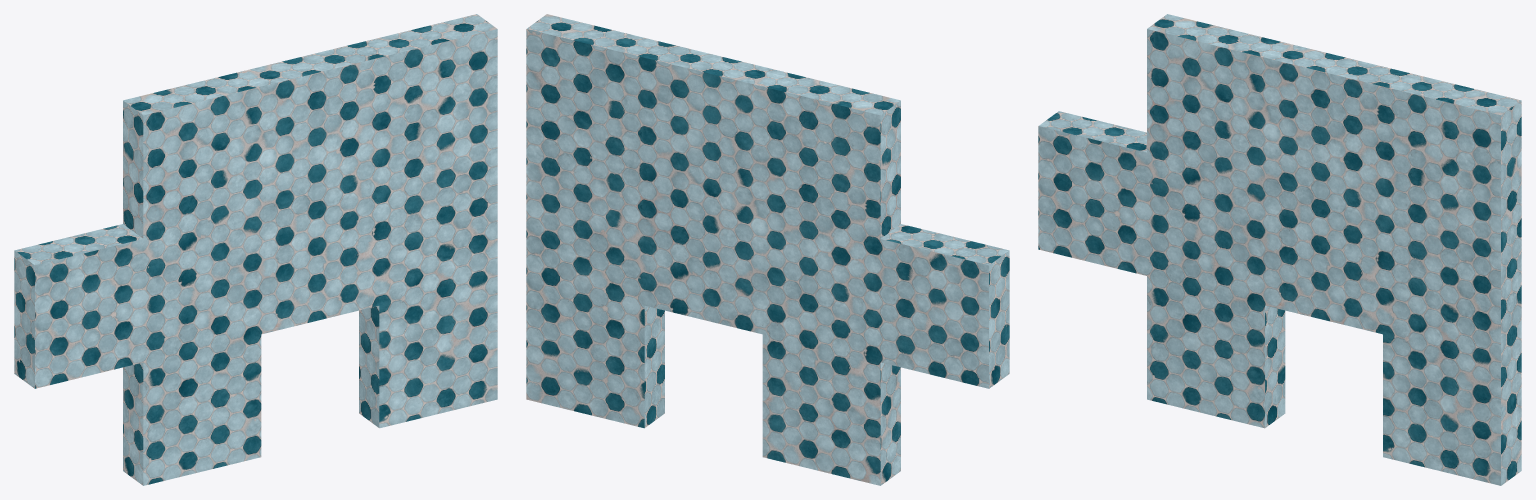
File: manhghep.001.glb
The picture shows the model from 3 angles, left to right: view 1: azimuth 30°, elevation 25°; view 2: azimuth 150°, elevation 25°; view 3: azimuth 330°, elevation 25°; orthographic projection.
Parts seen in each view (by area): view 1: manhghep.001; view 2: manhghep.001; view 3: manhghep.001.
Boxes of the visible parts, x1,y1,x2,y2 form: manhghep.001: [14, 14, 497, 485]; manhghep.001: [526, 14, 1009, 485]; manhghep.001: [1038, 14, 1521, 485].
Size of the model in its own units: 0.6531 by 0.5 by 0.05.
Materials: 1 (1 with a texture image).
